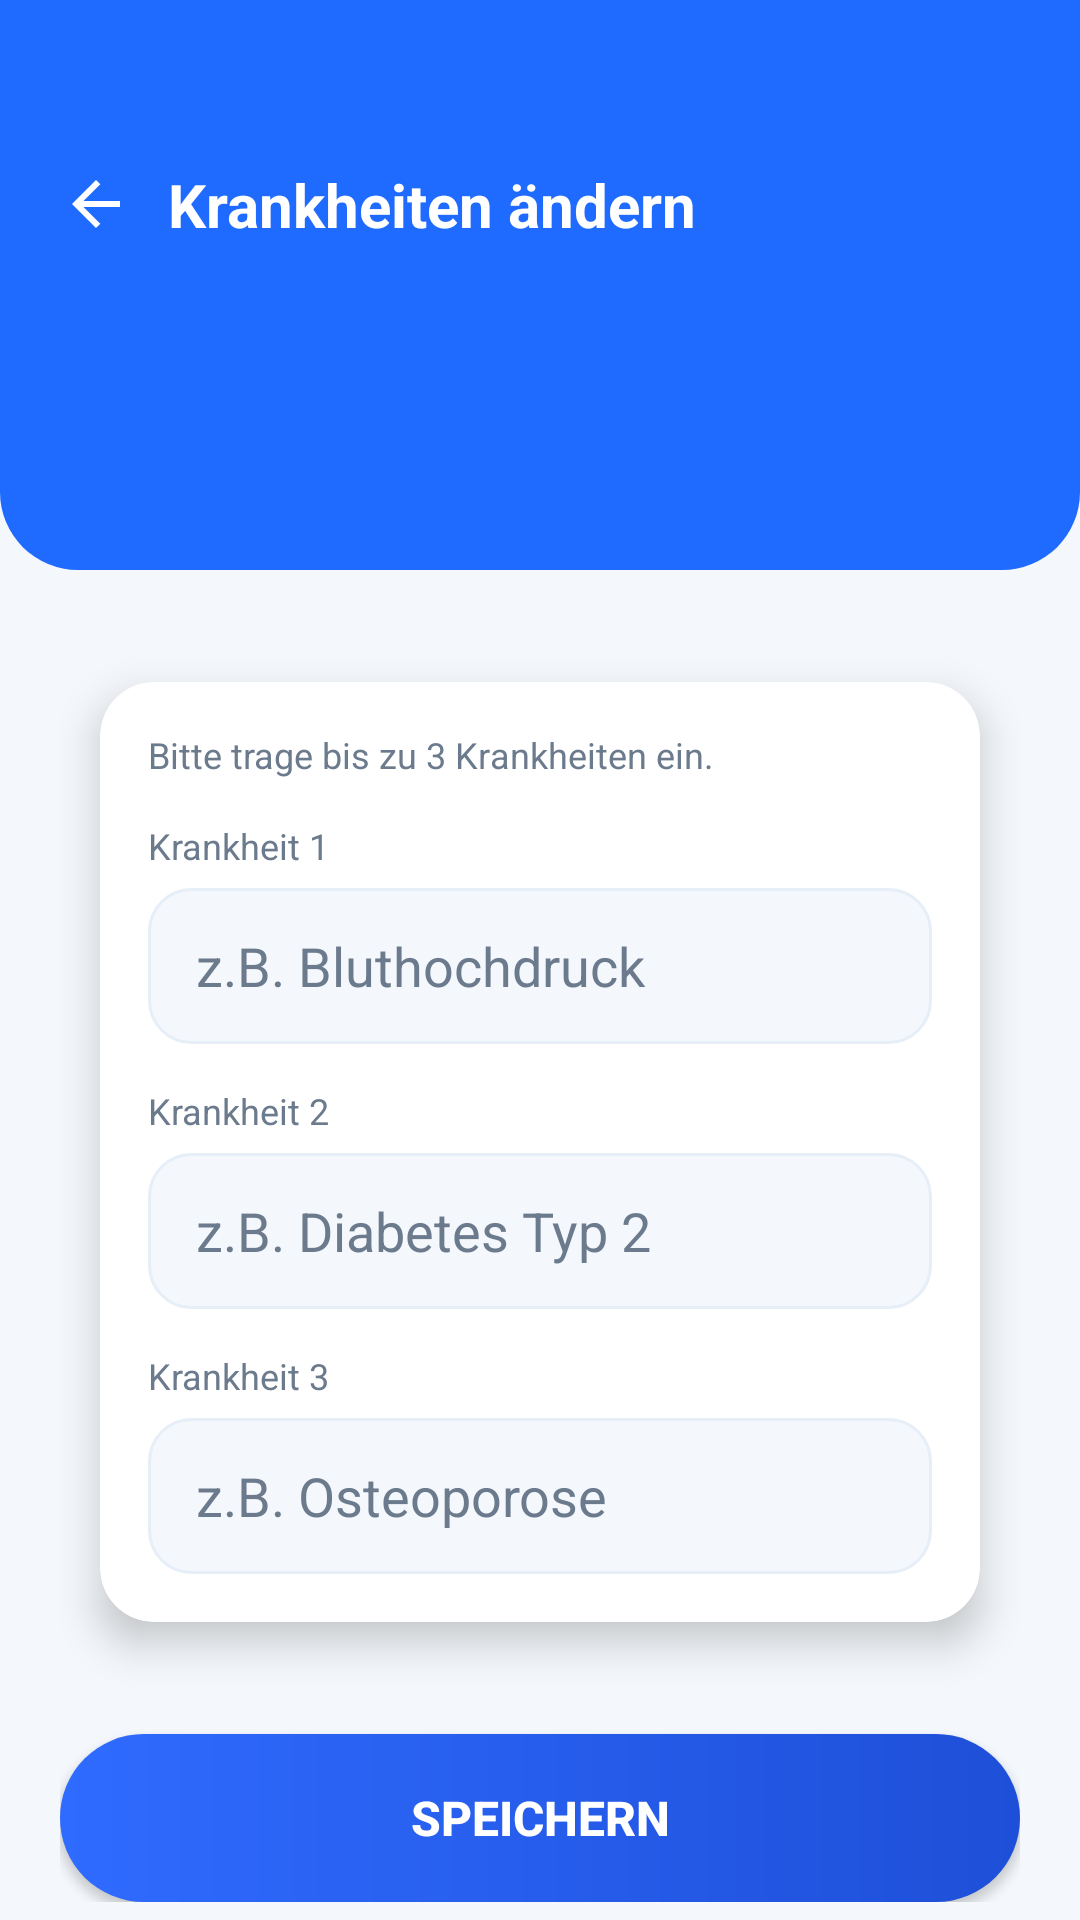

Icons on this 1080x1920 Android screen, each with its box as (x1, y1, x2, y2):
back: (72, 180, 120, 228)
